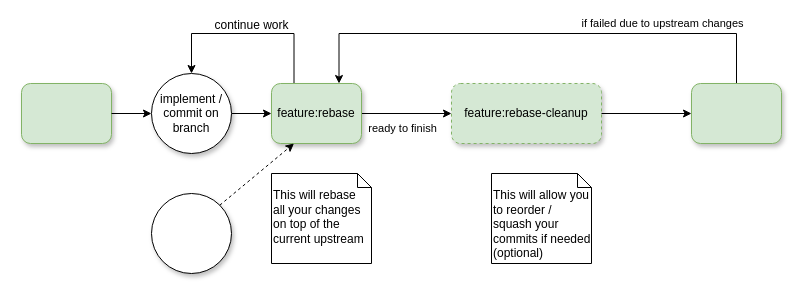
Image size: 805x298. Some labels were removed from this diagram. Here are the shapes that lost their labels. From the top down, the centre of each, then its label:
At point (67, 114): "feature:start".
At point (737, 114): "feature:finish".
At point (192, 234): "upstream changes".
